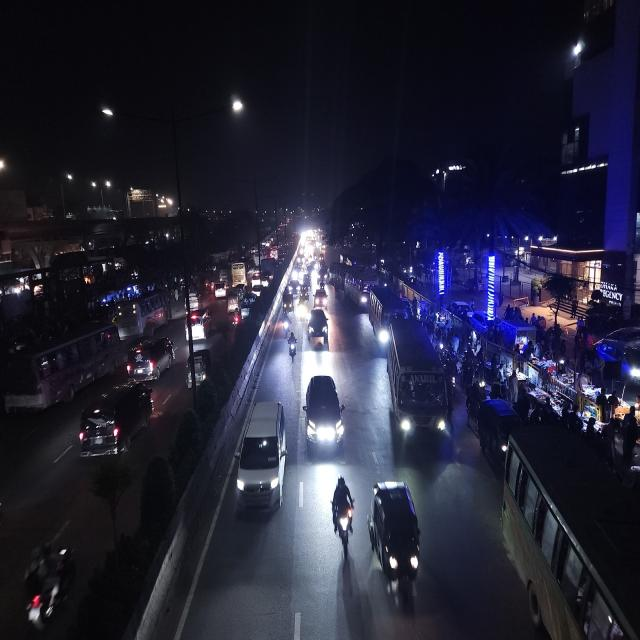bus: (500, 422, 640, 640), (2, 319, 121, 416), (383, 316, 449, 457), (116, 289, 168, 336), (366, 284, 402, 347), (344, 268, 374, 312), (232, 262, 250, 286)
car: (234, 396, 289, 523), (78, 378, 155, 464), (302, 370, 344, 463), (130, 333, 178, 383), (306, 306, 330, 351), (187, 307, 213, 341), (313, 286, 328, 310), (212, 279, 228, 299), (289, 278, 301, 297)
cng: (368, 476, 425, 606), (187, 344, 211, 393), (282, 291, 296, 317), (227, 294, 239, 312)
motorcycle: (330, 471, 356, 553), (286, 330, 298, 366), (279, 313, 291, 335)
